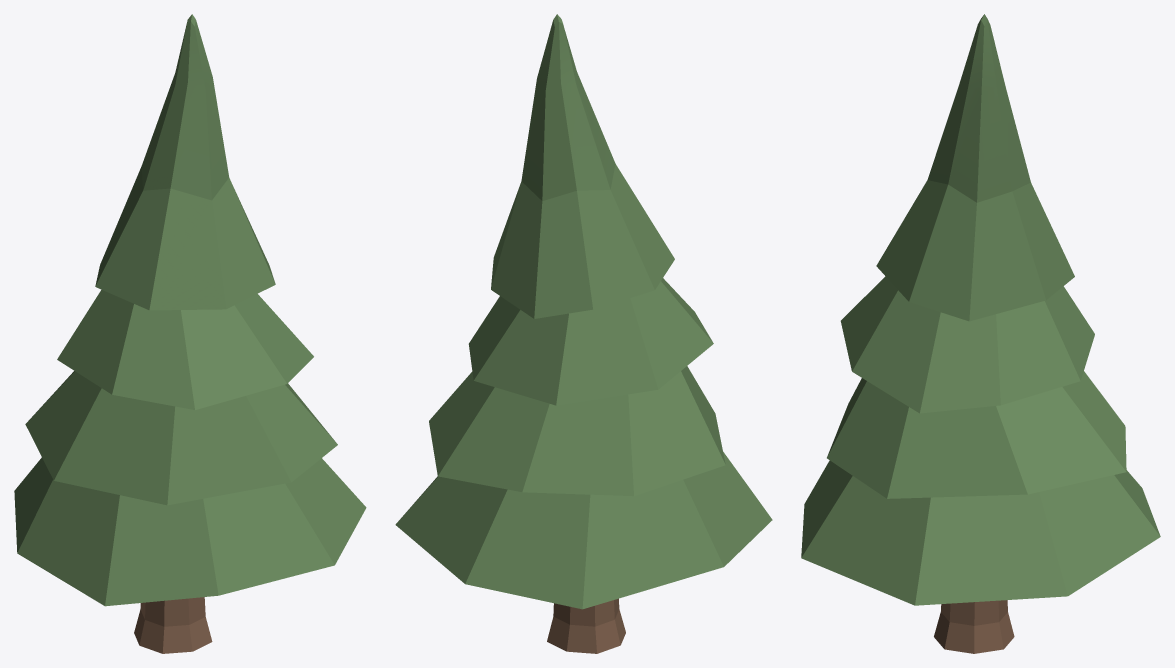
File: Pine_Trees_Pack_Pine_04.fbx
3 views of the same model, side by side, from view 1: azimuth 30°, elevation 25°; view 2: azimuth 150°, elevation 25°; view 3: azimuth 270°, elevation 25° (orthographic). The views are drawn at different scales.
Visible parts, largest first — view 1: Pine_Trees_Pack_Pine_04; view 2: Pine_Trees_Pack_Pine_04; view 3: Pine_Trees_Pack_Pine_04.
Boxes of the visible parts, bbox=[...] form: Pine_Trees_Pack_Pine_04: bbox=[14, 14, 366, 653]; Pine_Trees_Pack_Pine_04: bbox=[395, 14, 772, 653]; Pine_Trees_Pack_Pine_04: bbox=[801, 14, 1160, 653].
Bounding box in the file's own units: 214 × 405 × 208.
